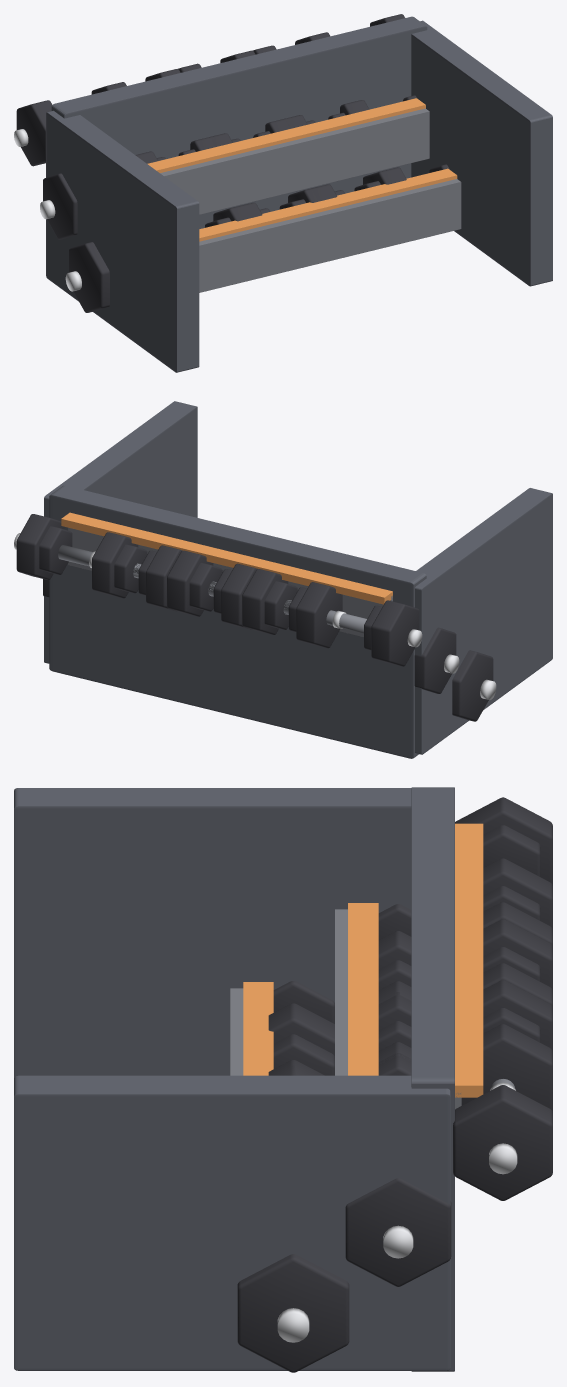
The model's file is dumbbell_rack.glb.
3 renders of one model, top to bottom at view 1: azimuth 30°, elevation 25°; view 2: azimuth 150°, elevation 25°; view 3: azimuth 270°, elevation 25°, orthographic. The views are drawn at different scales.
Parts seen in each view (by area): view 1: frame, end_-0.78, end_0.78, shelf_-0.2, shelf_0.0, lip_0.0, lip_-0.2, hex_-1_1, hex_-1_1.004, hex_-1_1.008, hex_1_1.002, hex_1_1; view 2: frame, end_-0.78, end_0.78, lip_0.2, hex_-1_1.008, hex_-1_1.009, hex_-1_1, hex_-1_1.004, hex_1_1.011, hex_1_1.008, hex_1_1.009, hex_1_1.010 (+9 smaller); view 3: end_0.78, end_-0.78, frame, hex_1_1.003, hex_1_1.011, hex_1_1.007, lip_0.2, lip_0.0, hex_1_1.010, lip_-0.2, hex_-1_1.008, hex_-1_1.009 (+21 smaller).
Boxes of the visible parts, x1,y1,x2,y2 form: frame: (51, 16, 427, 228); end_-0.78: (46, 110, 199, 372); end_0.78: (411, 20, 552, 286); shelf_-0.2: (199, 179, 461, 292); shelf_0.0: (160, 108, 429, 214); lip_0.0: (147, 98, 425, 172); lip_-0.2: (199, 168, 457, 241); hex_-1_1: (69, 242, 109, 312); hex_-1_1.004: (43, 173, 77, 239); hex_-1_1.008: (16, 100, 52, 166); hex_1_1.002: (363, 167, 406, 184); hex_1_1: (213, 204, 255, 221); frame: (49, 485, 426, 758); end_-0.78: (415, 488, 552, 754); end_0.78: (44, 401, 197, 663); lip_0.2: (61, 512, 392, 604); hex_-1_1.008: (371, 600, 419, 666); hex_-1_1.009: (296, 582, 342, 648); hex_-1_1: (452, 650, 493, 721); hex_-1_1.004: (414, 627, 456, 693); hex_1_1.011: (16, 514, 64, 579); hex_1_1.008: (242, 569, 288, 634); hex_1_1.009: (167, 550, 213, 616); hex_1_1.010: (92, 532, 138, 598); end_0.78: (14, 1075, 450, 1370); end_-0.78: (14, 788, 411, 1077); frame: (411, 787, 454, 1371); hex_1_1.003: (237, 1254, 349, 1372); hex_1_1.011: (453, 1085, 552, 1200); hex_1_1.007: (345, 1178, 451, 1286); lip_0.2: (455, 823, 483, 1097); lip_0.0: (348, 903, 378, 1075); hex_1_1.010: (461, 1024, 552, 1112); lip_-0.2: (243, 982, 273, 1075); hex_-1_1.008: (455, 797, 552, 885); hex_-1_1.009: (483, 858, 552, 929).
Size of the model in its own units: 1.85 by 0.74 by 1.23.
